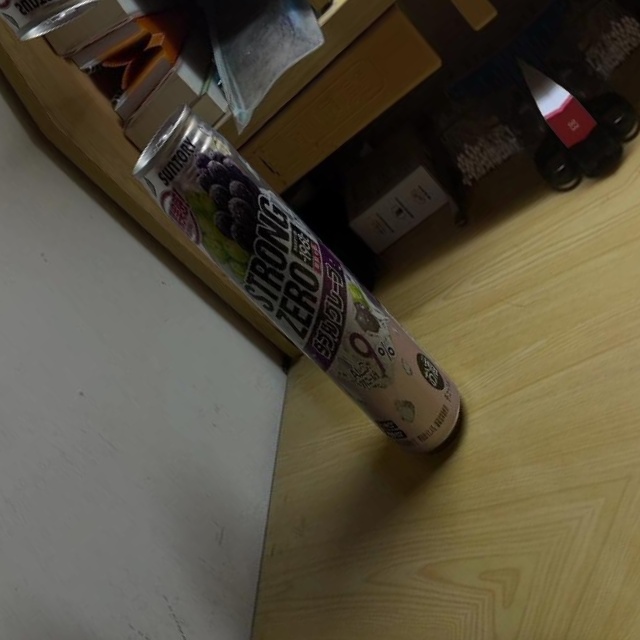Liquor: (118, 86, 483, 491)
